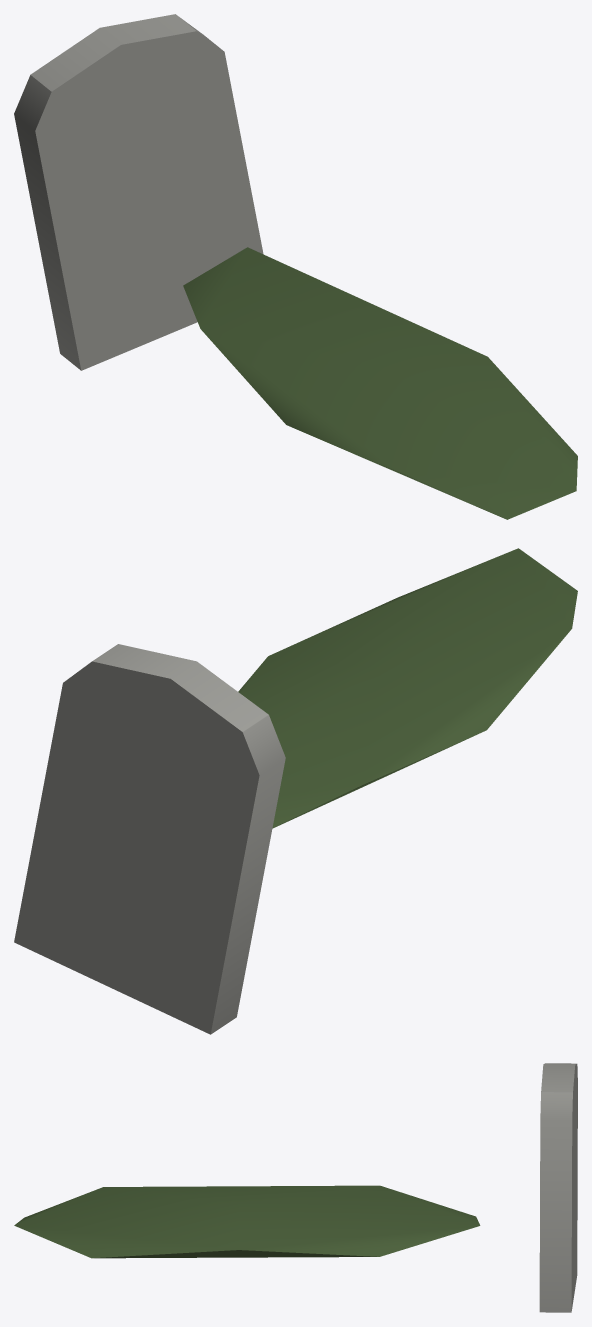
Rendered from GraveOld.fbx.
3 renders of one model, top to bottom at view 1: azimuth 30°, elevation 25°; view 2: azimuth 150°, elevation 25°; view 3: azimuth 270°, elevation 25°, orthographic. The views are drawn at different scales.
Visible parts, largest first — view 1: GraveOld; view 2: GraveOld; view 3: GraveOld.
Boxes of the visible parts, box(x1,y1,x2,y2) form: GraveOld: box(14, 14, 577, 519); GraveOld: box(14, 548, 577, 1034); GraveOld: box(14, 1063, 577, 1312).
Size of the model in its own units: 0.5963 by 0.7722 by 1.76.
